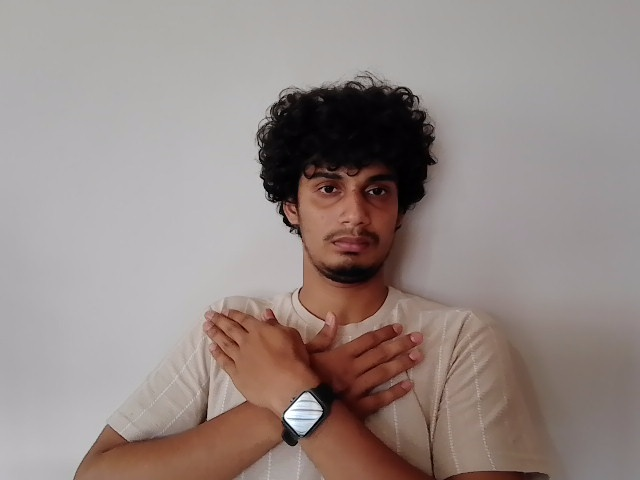relaxing: (202, 306, 426, 423)
